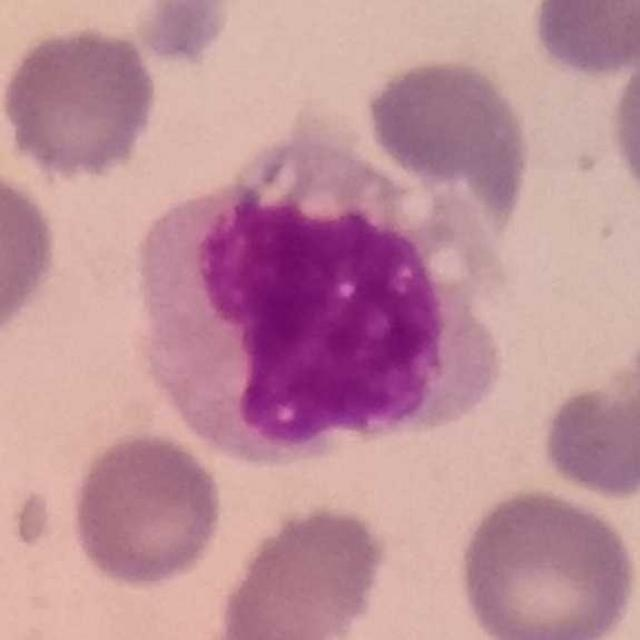Monocyte: (130, 134, 512, 481)
RBC: (453, 484, 639, 640), (0, 21, 163, 184), (66, 427, 228, 591), (211, 500, 393, 639), (361, 54, 531, 188), (14, 0, 248, 72), (536, 343, 640, 503), (0, 159, 62, 346), (525, 0, 639, 81), (605, 33, 640, 216)
